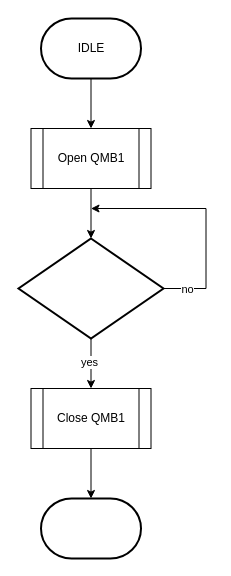
Some shapes in this 231 by 576 pixel diagram are drawn without their labels. The centre of each missing label's shape, as x and y in pixels:
"BPA1 > pressure?" belongs at point (90, 288).
"COMPLETE" belongs at point (91, 528).
